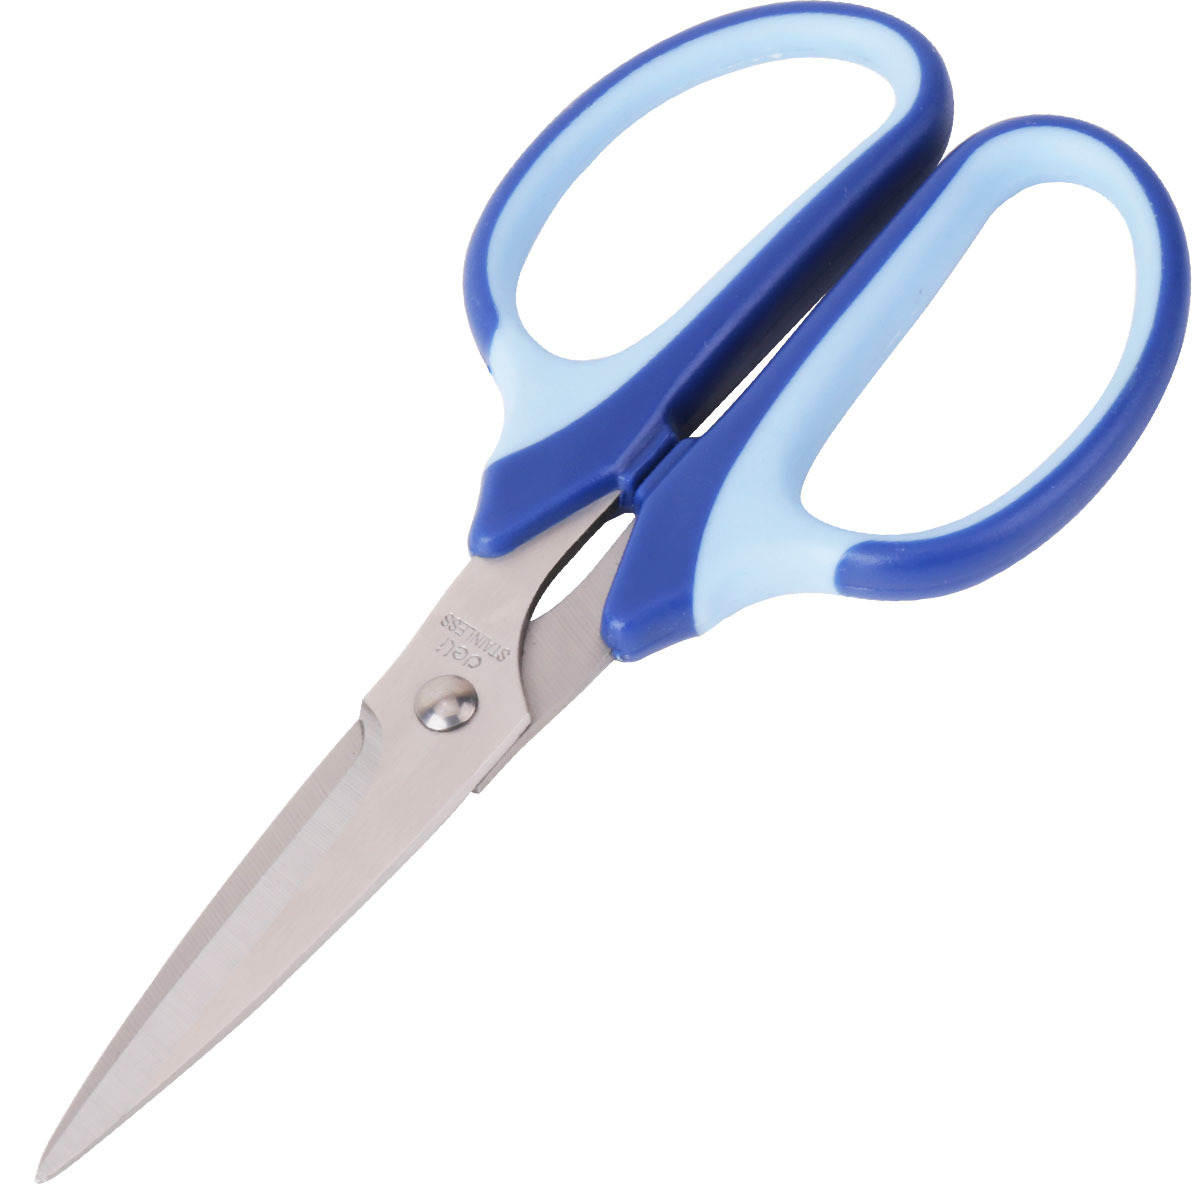scissors: (7, 4, 1195, 1187)
